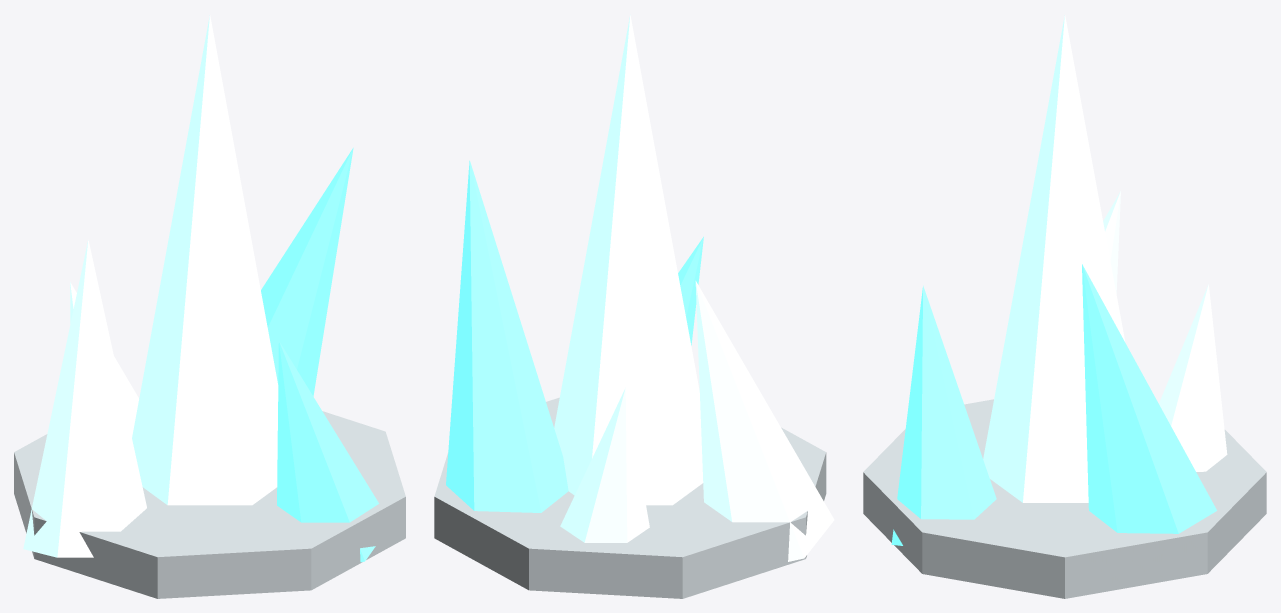
File: ice_crystal_cluster.fbx
3 views of the same model, side by side, from view 1: azimuth 30°, elevation 25°; view 2: azimuth 150°, elevation 25°; view 3: azimuth 270°, elevation 25° (orthographic).
Parts seen in each view (by area): view 1: Ice_crystal_cluster; view 2: Ice_crystal_cluster; view 3: Ice_crystal_cluster.
Boxes of the visible parts, bbox=[...] form: Ice_crystal_cluster: bbox=[14, 15, 405, 598]; Ice_crystal_cluster: bbox=[434, 15, 834, 598]; Ice_crystal_cluster: bbox=[863, 15, 1266, 598].
Size of the model in its own units: 2.23 by 3.07 by 2.2.
